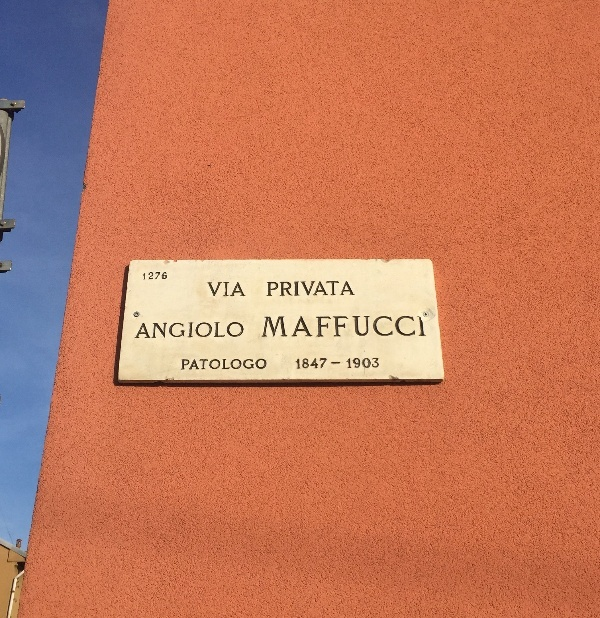text: (273, 316, 288, 339), (289, 316, 304, 339), (305, 316, 320, 339), (321, 316, 336, 339), (337, 316, 352, 339), (353, 316, 368, 339), (369, 316, 384, 339), (385, 316, 400, 339), (401, 316, 416, 339), (145, 322, 160, 339), (161, 322, 176, 339), (177, 322, 192, 339), (193, 322, 208, 339), (209, 322, 224, 339), (225, 322, 240, 339), (209, 282, 224, 298), (225, 282, 240, 298), (273, 281, 288, 297), (289, 281, 304, 297), (305, 281, 320, 297), (321, 281, 336, 297), (337, 281, 352, 297), (417, 316, 427, 339), (264, 316, 272, 339), (193, 359, 208, 371), (209, 359, 224, 371), (225, 359, 240, 371), (241, 359, 256, 371), (305, 358, 320, 369), (353, 358, 368, 369), (145, 272, 160, 280), (182, 359, 192, 371), (257, 359, 267, 371), (369, 358, 379, 369), (241, 282, 247, 298), (296, 358, 304, 369), (267, 281, 272, 297), (321, 358, 328, 369), (161, 272, 168, 280), (347, 358, 352, 369), (241, 322, 244, 339), (142, 322, 144, 339), (353, 281, 355, 297), (207, 282, 208, 298), (331, 362, 336, 364), (143, 272, 144, 280), (337, 362, 341, 364)
